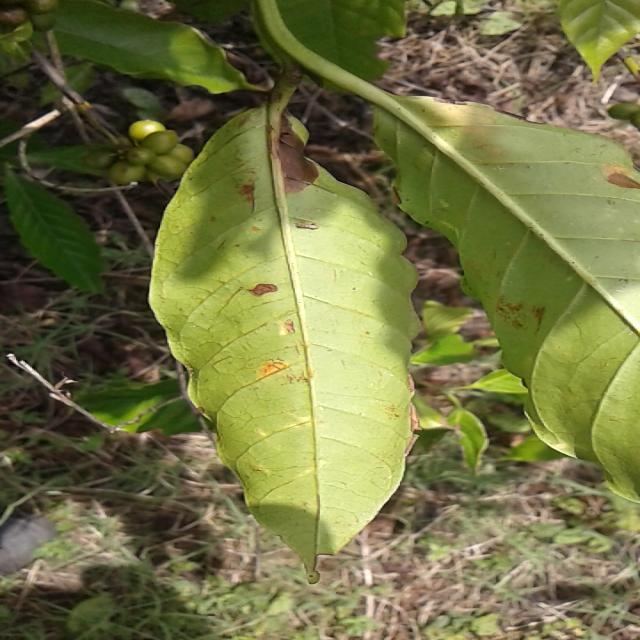Enfermedad-Roya: (148, 108, 420, 584)
